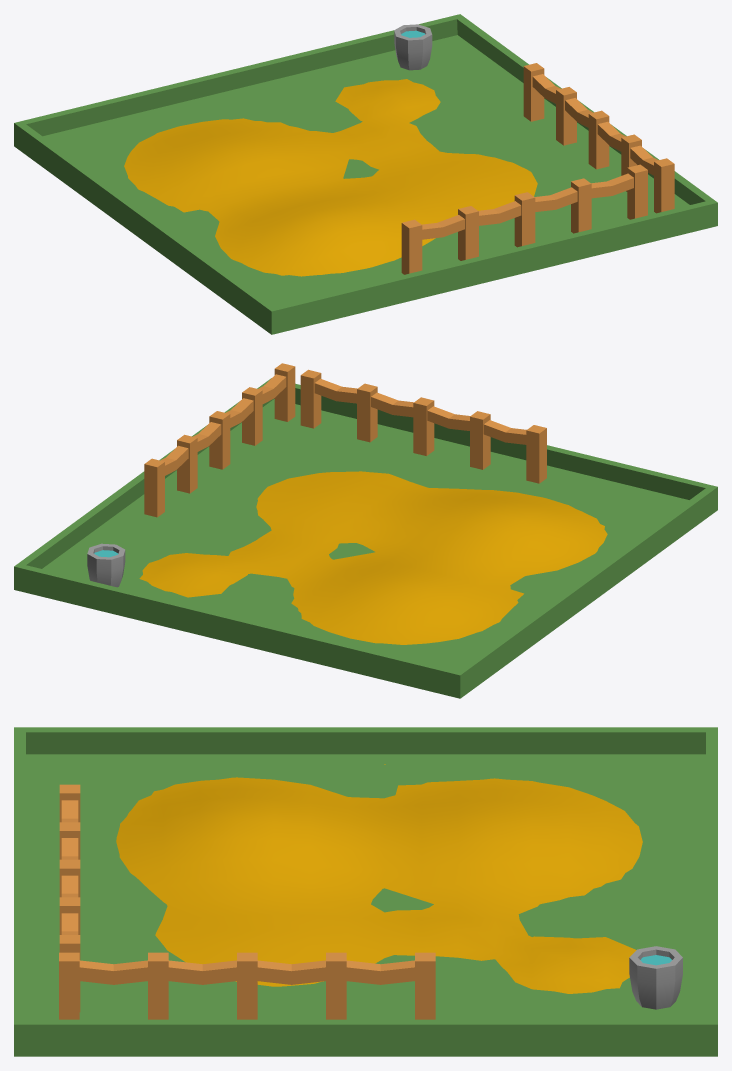
Rendered from wheetField.fbx.
3 renders of one model, top to bottom at view 1: azimuth 30°, elevation 25°; view 2: azimuth 150°, elevation 25°; view 3: azimuth 270°, elevation 25°, orthographic. The views are drawn at different scales.
Visible parts, largest first — view 1: Cube.001; view 2: Cube.001; view 3: Cube.001.
Boxes of the visible parts, left/top/right/bottom form: Cube.001: left=14, top=14, right=717, bottom=334; Cube.001: left=14, top=363, right=717, bottom=698; Cube.001: left=14, top=727, right=717, bottom=1056.
Size of the model in its own units: 2.88 by 2.88 by 0.3498.
